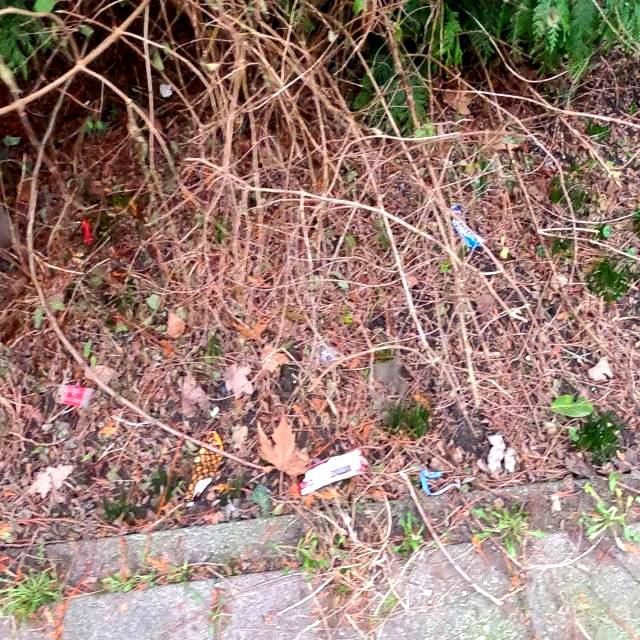Paper: (486, 431, 506, 473), (504, 446, 516, 474)
Plastic: (296, 447, 368, 497), (182, 428, 224, 509), (449, 203, 485, 249), (54, 384, 94, 408)
